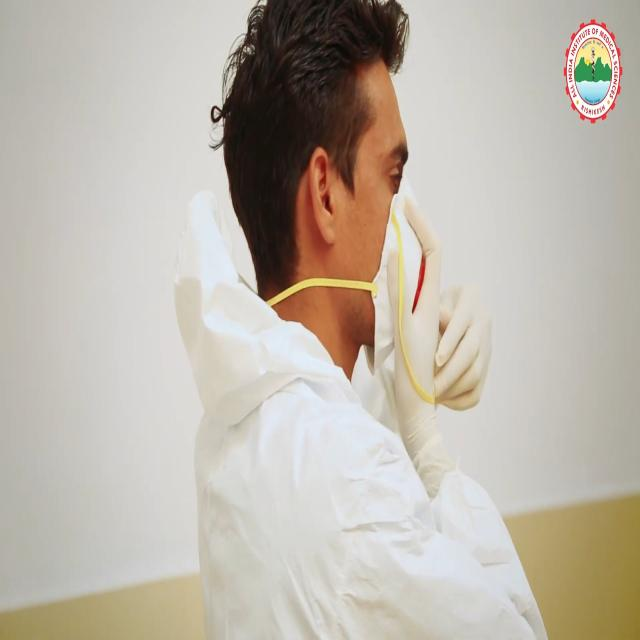Gloves: (383, 182, 444, 476), (431, 265, 498, 424)
